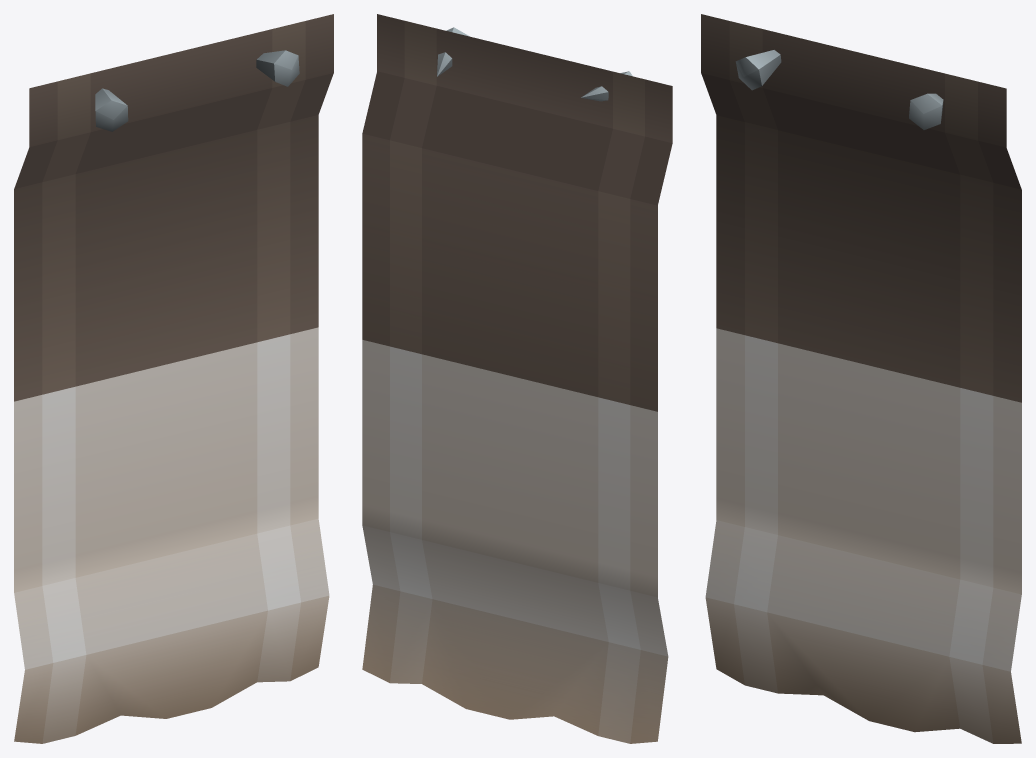
Rendered from banner_patternC_white.gltf.
3 renders of one model, left to right at view 1: azimuth 30°, elevation 25°; view 2: azimuth 150°, elevation 25°; view 3: azimuth 330°, elevation 25°, orthographic. The views are drawn at different scales.
Visible parts, largest first — view 1: banner_patternC_white; view 2: banner_patternC_white; view 3: banner_patternC_white.
Part boxes in pixels (<box>): banner_patternC_white: <box>14,14,333,743</box>; banner_patternC_white: <box>362,14,672,743</box>; banner_patternC_white: <box>701,14,1021,743</box>.
Size of the model in its own units: 1.5 by 3.2 by 0.3119.
Materials: 1 (1 with a texture image).
